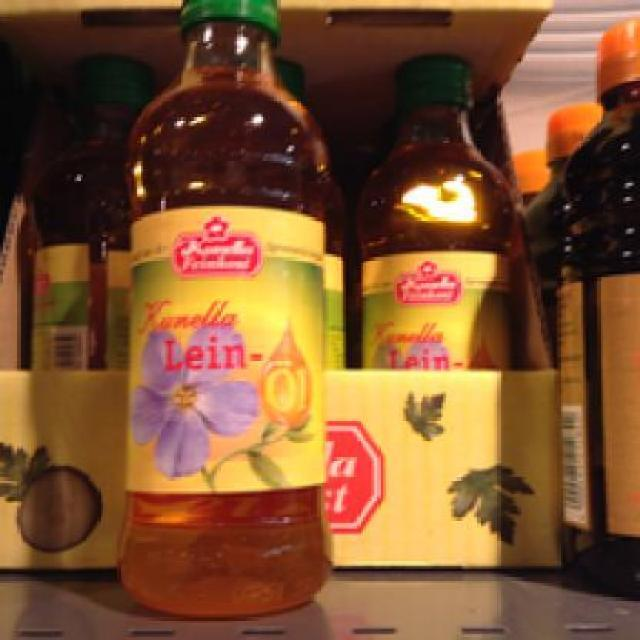Oil: (119, 0, 332, 617), (352, 46, 514, 366)
